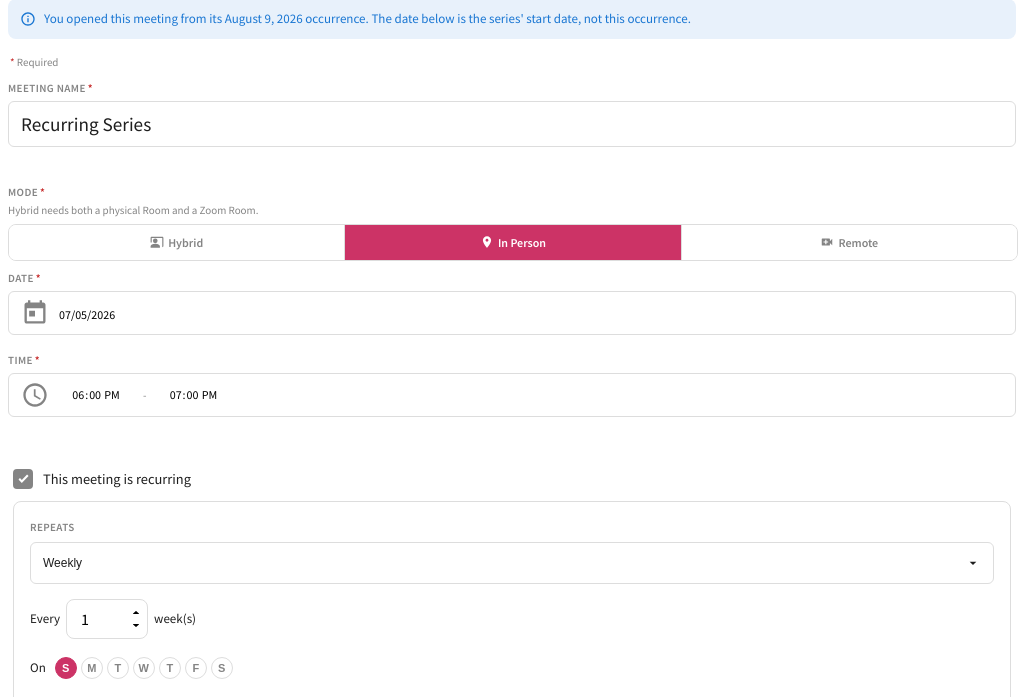
Test: EditMeetingSidebar recurring-scope re-anchoring › disables only This and following when the Date field was changed
Replace the text in the field with placeholder "MM/DD/YYYY" with "09/01/2026" at {"x": 532, "y": 314}, box [57,306,1007,323]
(page scrolled)
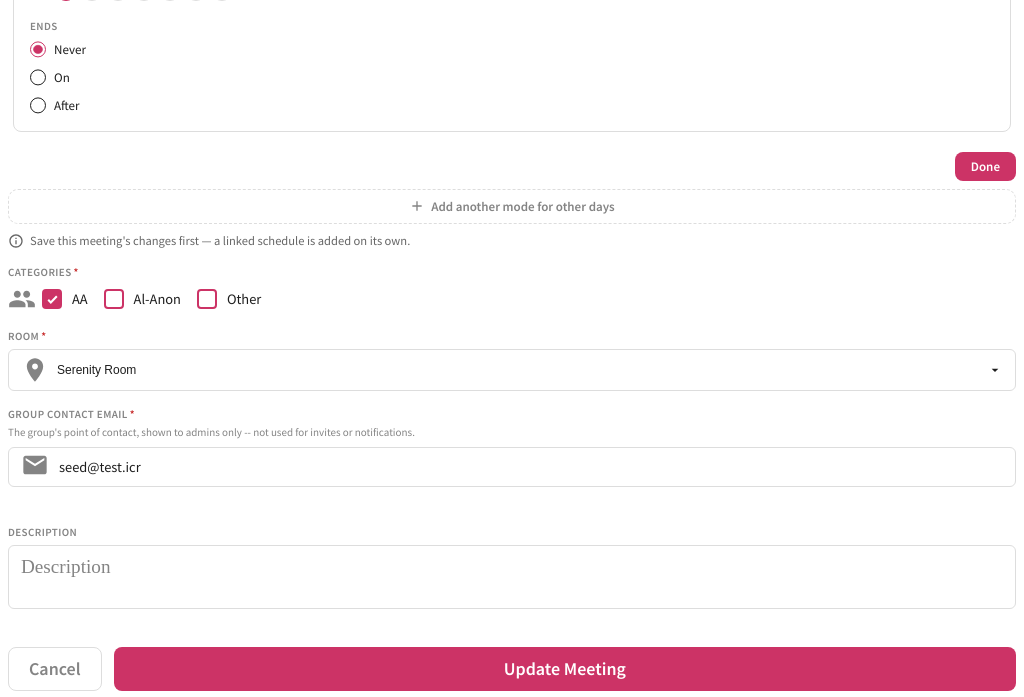
Click the button "Update Meeting" at {"x": 565, "y": 669}, box [114,647,1016,691]
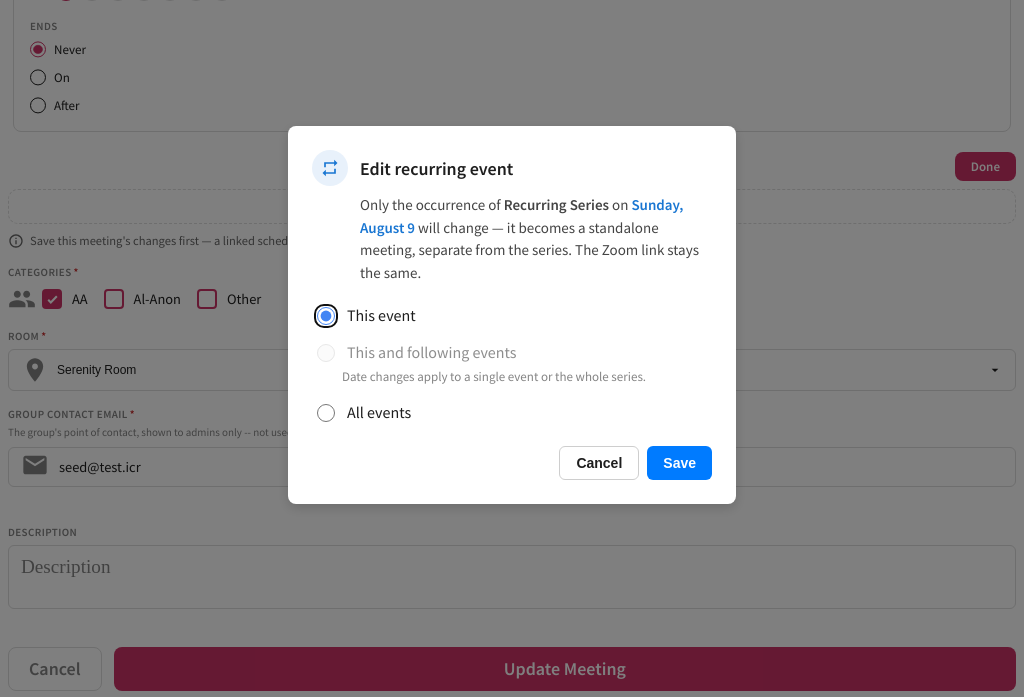
Now the radio button labelled "This event" is enabled, box [317,307,335,325]
Now the radio button labelled "All events" is enabled, box [317,404,335,422]
Now the text "Date changes apply to a single event or the whole series." is shown, box [342,368,646,385]
